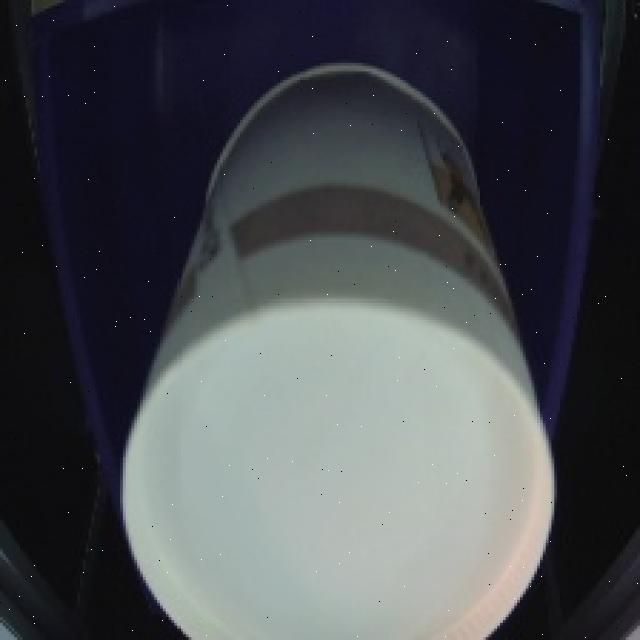cups: (112, 49, 571, 640)
